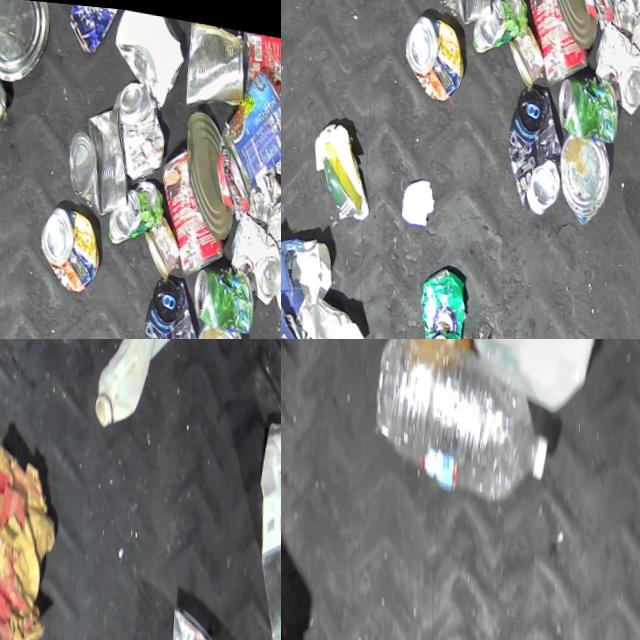can: (151, 136, 232, 274), (211, 53, 281, 191), (498, 76, 567, 211), (61, 92, 136, 214), (177, 100, 240, 232), (107, 71, 170, 179), (514, 0, 595, 83), (33, 197, 102, 291), (397, 6, 466, 100), (182, 12, 249, 108), (152, 590, 269, 640), (222, 200, 281, 298), (551, 125, 611, 221), (586, 9, 640, 107), (133, 267, 203, 339), (186, 253, 253, 328), (550, 62, 617, 137), (104, 167, 164, 246), (409, 258, 466, 339), (0, 0, 53, 85), (65, 0, 126, 56), (240, 22, 281, 102), (467, 0, 527, 54), (138, 205, 182, 273), (502, 14, 546, 82), (540, 0, 604, 41), (187, 315, 247, 339), (272, 101, 281, 169)
milk_jug: (449, 339, 604, 415), (88, 339, 189, 430)
plastic_bottle: (366, 339, 557, 512)
